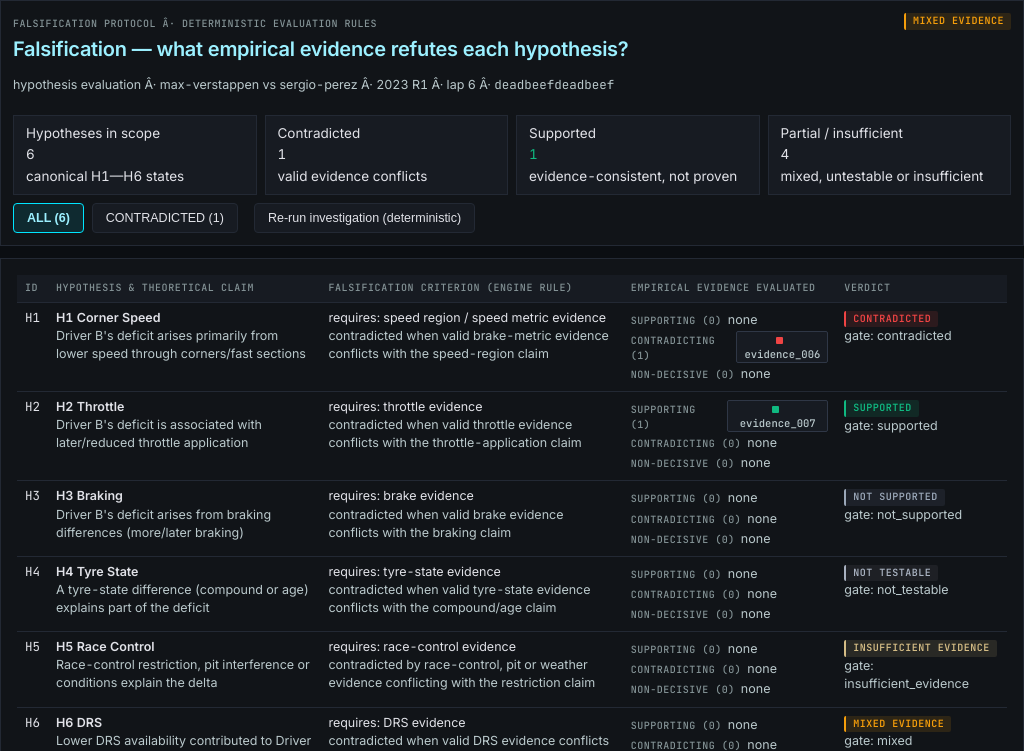
FalsificationMatrixView › evidence id chips open the real ledger entry in a drawer
Expected: the text "H2 Throttle" is shown, 56,399 -> 124,414
Click the button "evidence_007" at (778, 416), box 727,400 -> 828,432
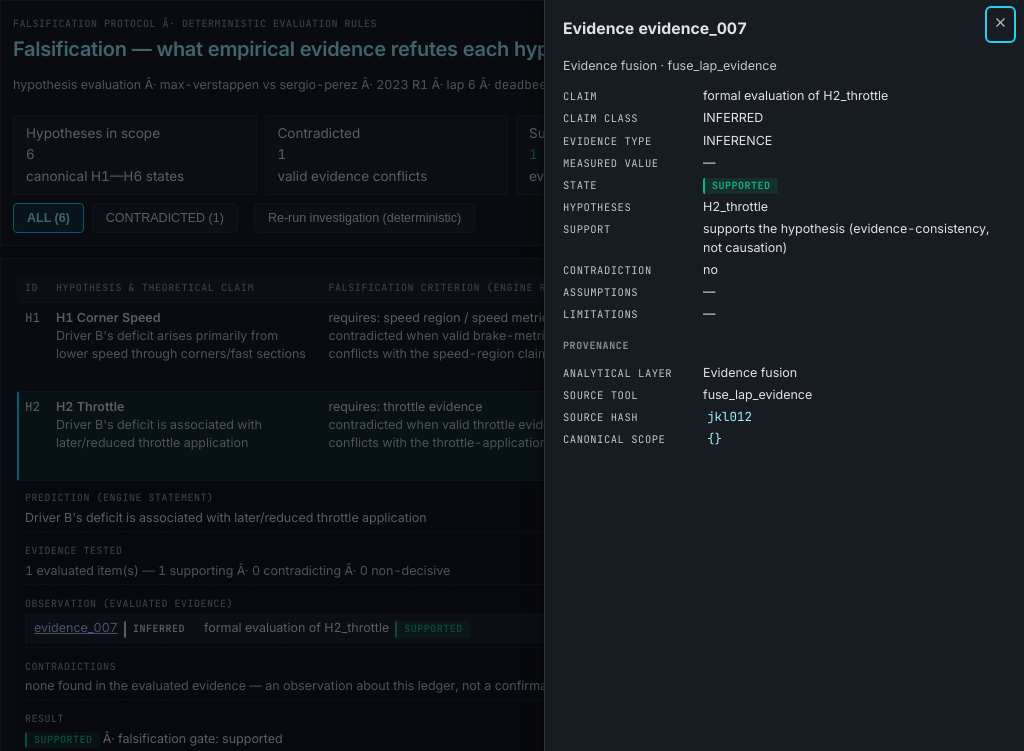
Result: the heading "Evidence evidence_007" is shown at 563,19 -> 747,38
Result: the text "formal evaluation of H2_throttle" below "Observation (evaluated evidence)" is shown at 204,620 -> 389,635
